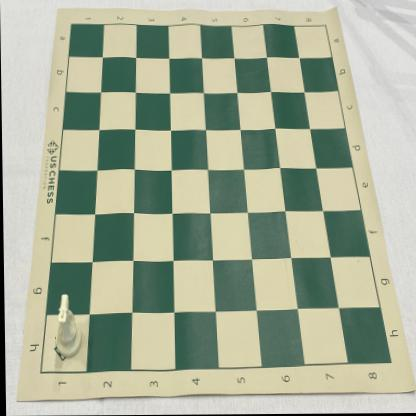white-knight: (54, 294, 82, 359)
